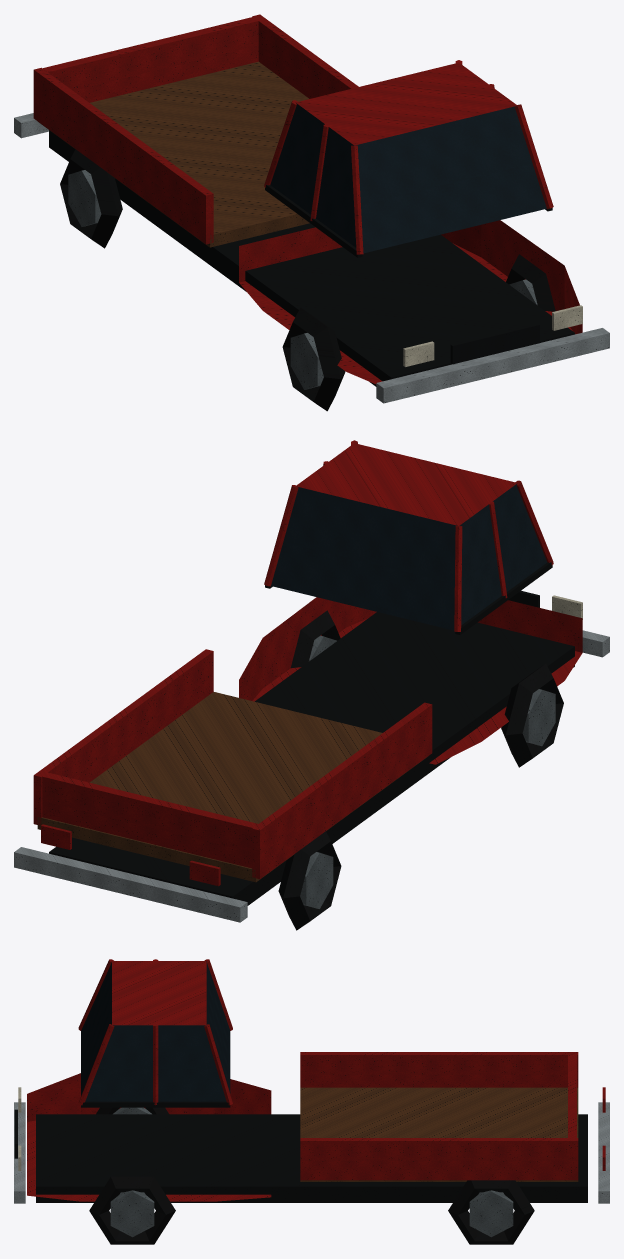
The model's file is PROP-B7C7CF04E654_lod2.glb.
3 views of the same model, one above another, from view 1: azimuth 30°, elevation 25°; view 2: azimuth 150°, elevation 25°; view 3: azimuth 270°, elevation 25° (orthographic). The views are drawn at different scales.
Parts seen in each view (by area): view 1: chassis.019, sloped_cabin_glazing.019, bed_deck.003, bed_sides.003, roof_panel.017, tailgate.003, shaped_body_panels.019, tire.019, bumper.019, rim.019, window_pillars.019, radiator_grille.019 (+2 smaller); view 2: chassis.019, sloped_cabin_glazing.019, bed_deck.003, bed_sides.003, tailgate.003, roof_panel.017, shaped_body_panels.019, tire.019, bumper.019, rim.019, window_pillars.019, lamp_lenses.039 (+1 smaller); view 3: chassis.019, bed_sides.003, bed_deck.003, sloped_cabin_glazing.019, roof_panel.017, tire.019, shaped_body_panels.019, rim.019, window_pillars.019, bumper.019, window_belt.019, tailgate.003.
Part boxes in pixels (left/top/right/bottom): chassis.019: left=49, top=130, right=574, bottom=386; sloped_cabin_glazing.019: left=270, top=103, right=546, bottom=253; bed_deck.003: left=39, top=61, right=309, bottom=247; bed_sides.003: left=33, top=14, right=358, bottom=244; roof_panel.017: left=295, top=62, right=517, bottom=145; tailgate.003: left=42, top=16, right=261, bottom=102; shaped_body_panels.019: left=239, top=220, right=582, bottom=384; tire.019: left=60, top=149, right=555, bottom=411; bumper.019: left=14, top=113, right=609, bottom=403; rim.019: left=68, top=170, right=537, bottom=389; window_pillars.019: left=264, top=60, right=553, bottom=254; radiator_grille.019: left=450, top=323, right=539, bottom=364; chassis.019: left=49, top=612, right=574, bottom=905; sloped_cabin_glazing.019: left=271, top=483, right=547, bottom=630; bed_deck.003: left=37, top=692, right=426, bottom=882; bed_sides.003: left=33, top=649, right=432, bottom=879; tailgate.003: left=42, top=772, right=261, bottom=868; roof_panel.017: left=296, top=443, right=517, bottom=525; shaped_body_panels.019: left=239, top=597, right=582, bottom=764; tire.019: left=278, top=610, right=563, bottom=930; bumper.019: left=14, top=630, right=609, bottom=922; rim.019: left=300, top=635, right=555, bottom=908; window_pillars.019: left=264, top=440, right=553, bottom=631; lamp_lenses.039: left=41, top=824, right=220, bottom=886; chassis.019: left=36, top=1114, right=587, bottom=1202; bed_sides.003: left=300, top=1052, right=578, bottom=1180; bed_deck.003: left=300, top=1087, right=578, bottom=1181; sloped_cabin_glazing.019: left=81, top=961, right=230, bottom=1101; roof_panel.017: left=112, top=961, right=206, bottom=1025; tire.019: left=89, top=1107, right=534, bottom=1244; shaped_body_panels.019: left=27, top=1073, right=271, bottom=1201; rim.019: left=110, top=1107, right=513, bottom=1237; window_pillars.019: left=78, top=959, right=232, bottom=1105; bumper.019: left=14, top=1102, right=609, bottom=1203; window_belt.019: left=81, top=1101, right=230, bottom=1107; tailgate.003: left=568, top=1053, right=576, bottom=1139.
Size of the model in its own units: 2.47 by 2.56 by 6.59.
8 materials, 8 textured.
